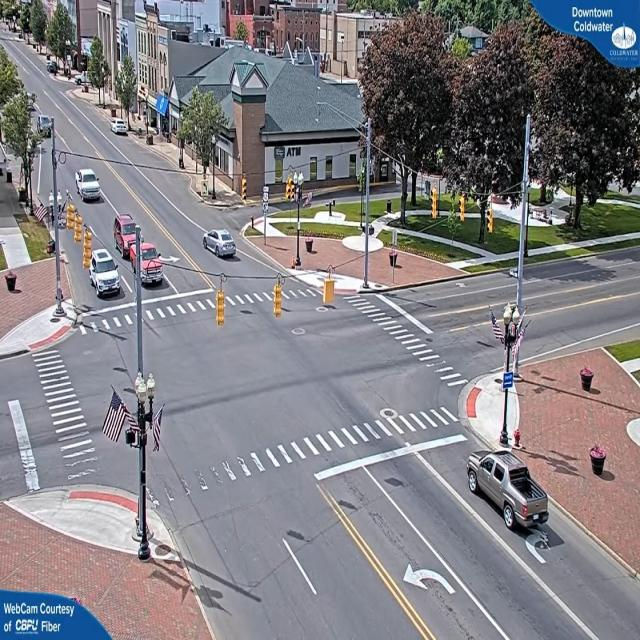car: (464, 450, 550, 532), (88, 252, 123, 296), (137, 244, 166, 286), (114, 211, 140, 253), (204, 228, 238, 258), (76, 171, 101, 204), (111, 120, 129, 136)
